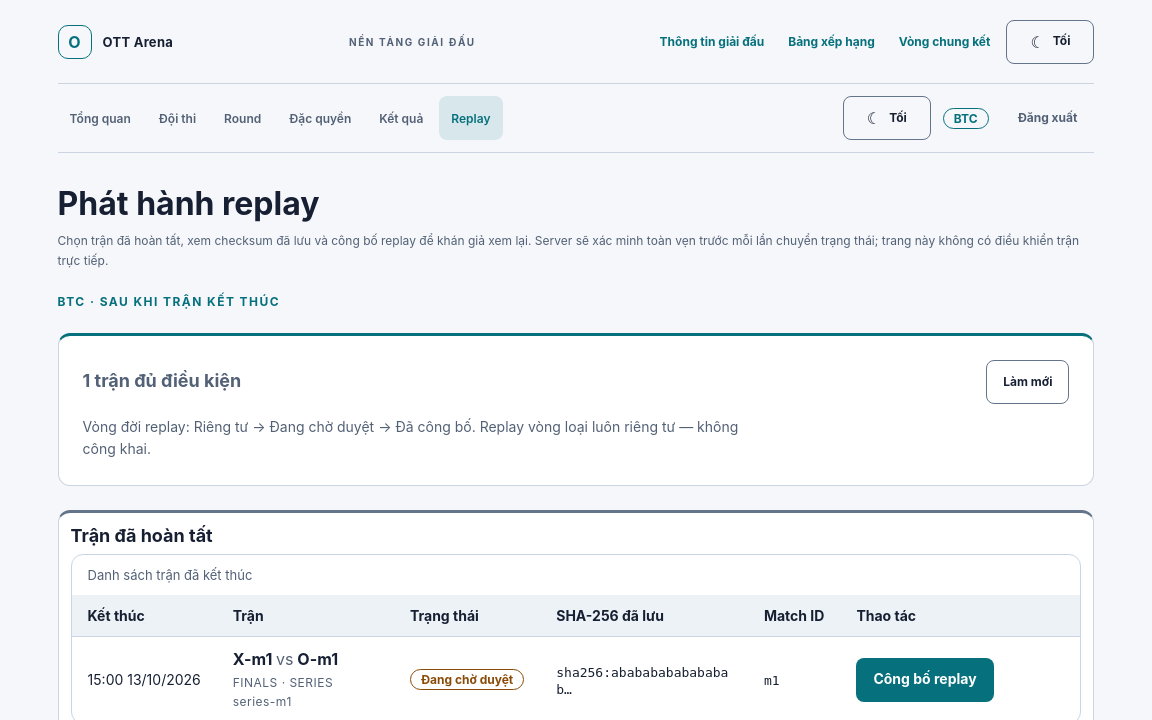
Test case: replay admin UI: confirmation dialog › uses the publish title for STAGED rows
The width and height of the screenshot is (1152, 720).
Click the button "Công bố replay".
click(925, 680)  # box [856,658,994,702]
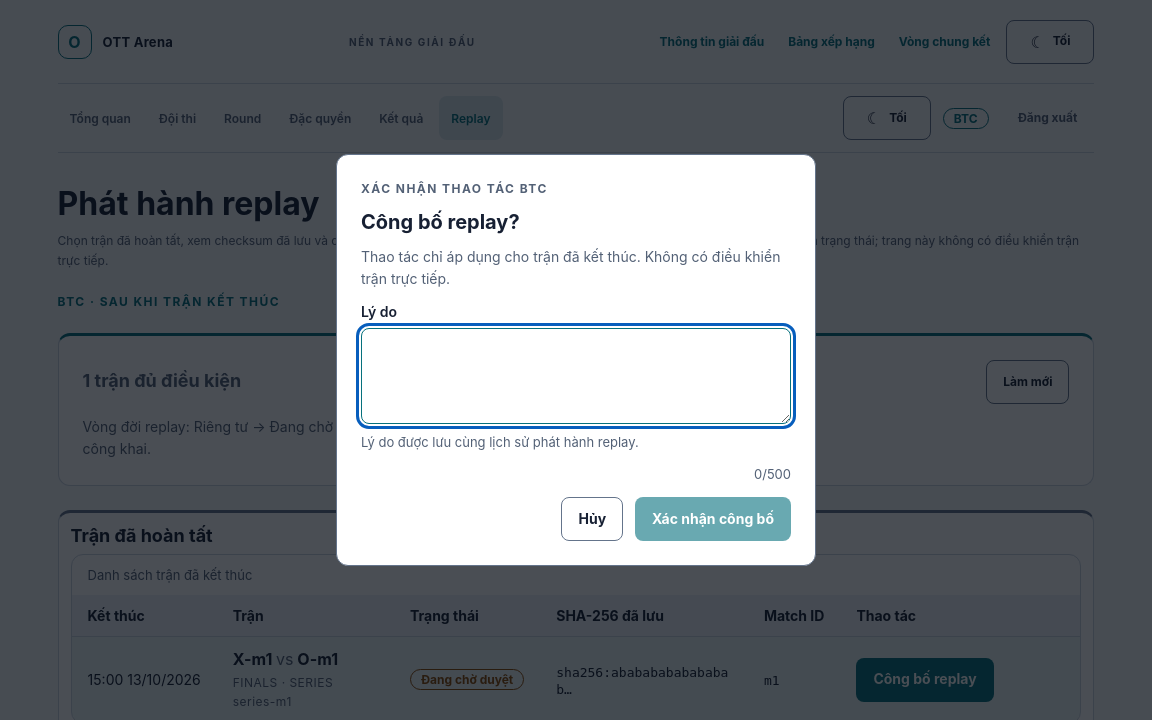
Expected: the heading "Công bố replay?" is shown, [361,210,520,234]
Expected: the button "Xác nhận công bố" is shown, [635,497,791,541]
